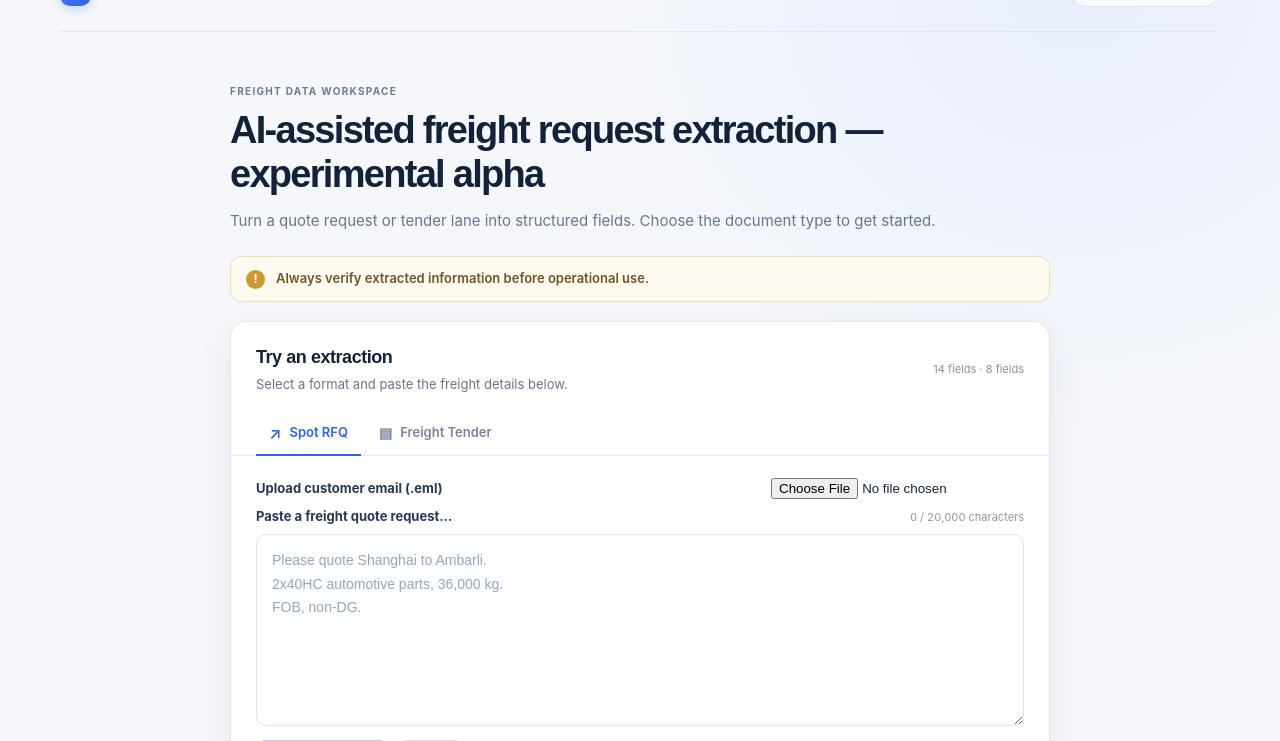
Scenario: CargoAI public alpha page › clears the active input and extraction result
Replace the text in the text box with placeholder "Please quote Shanghai" with "Shanghai to Ambarli" at (640,630), box [256,534,1024,726]
(page scrolled)
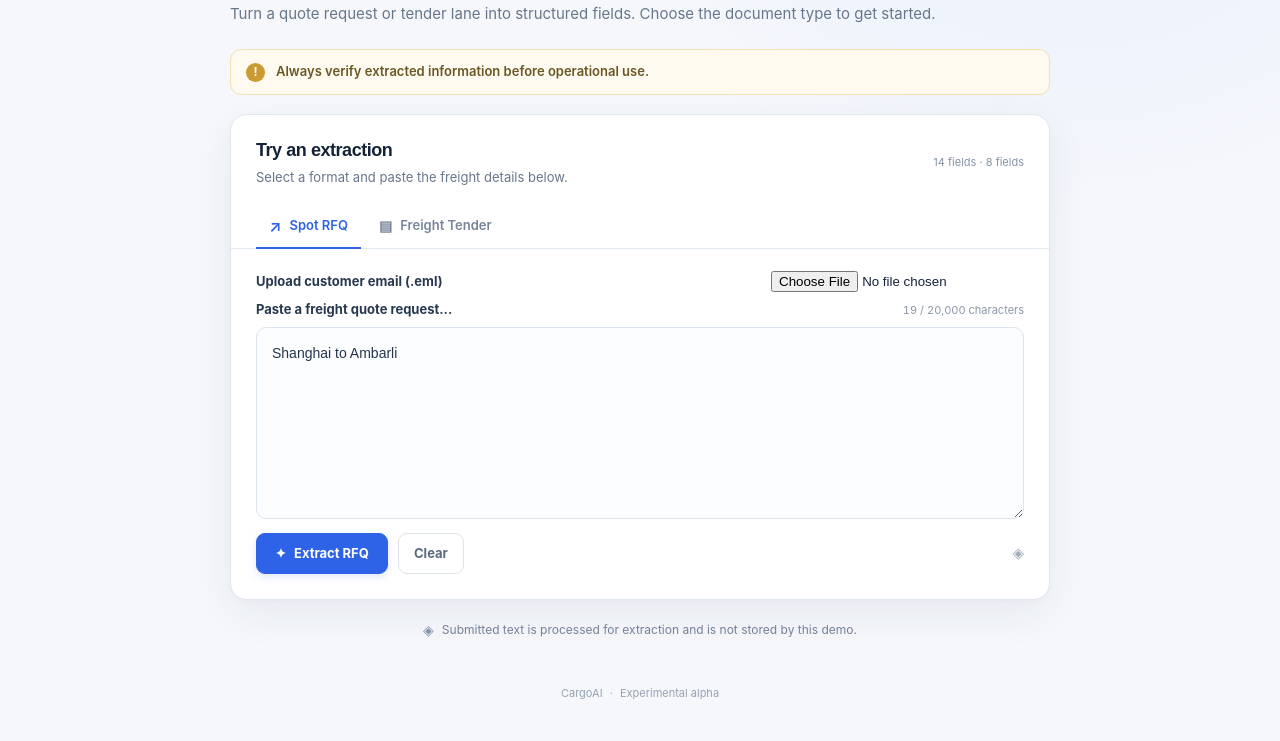
Click the button "✦ Extract RFQ" at (322,554), box [256,533,388,574]
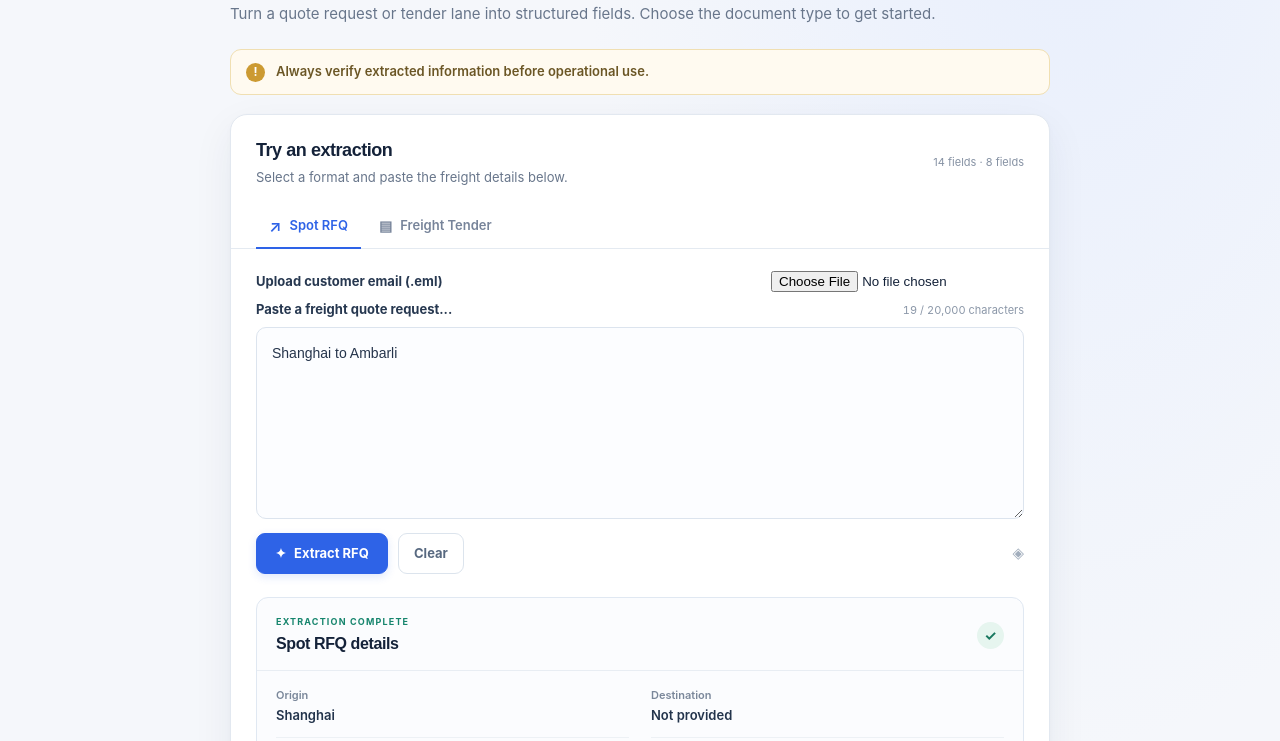
Check: the text "Shanghai" is shown, box [276,707,335,723]
Click the button "Clear" at (431,554), box [398,533,464,574]
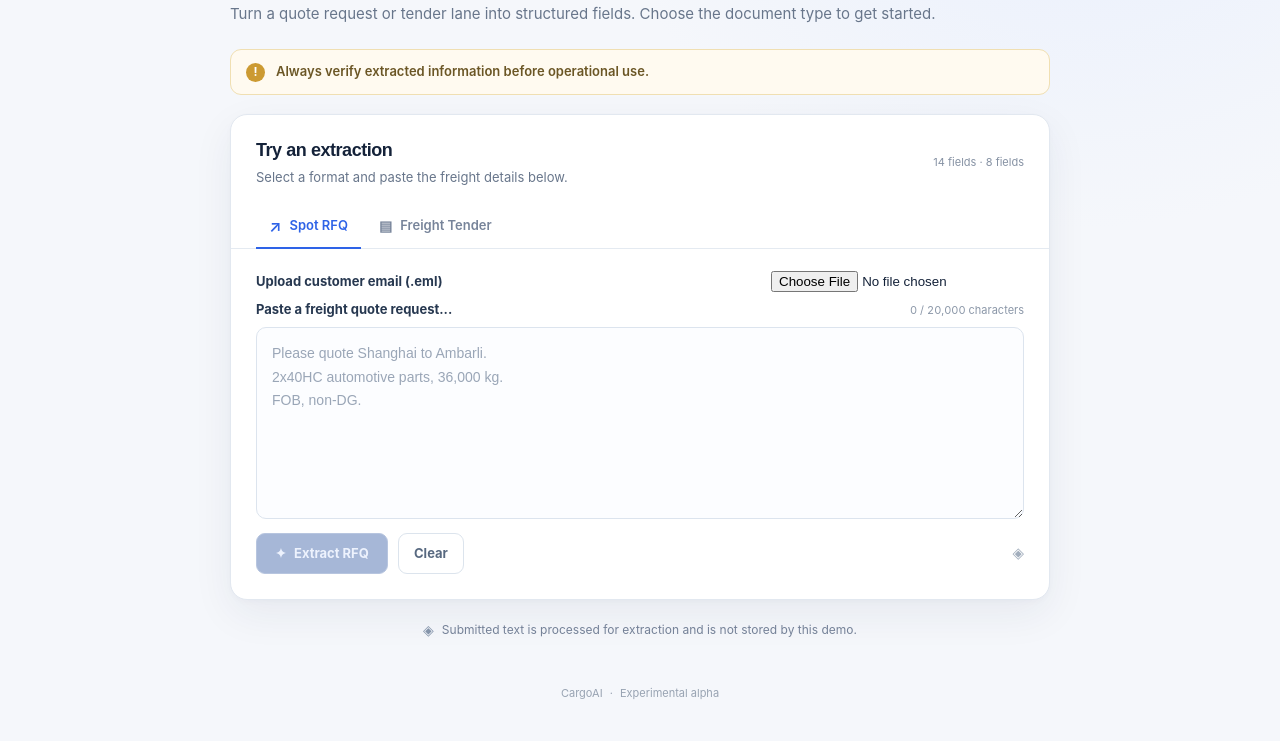
Check: the text box with placeholder "Please quote Shanghai" is empty, box [256,327,1024,519]
Check: the heading "Spot RFQ details" is gone
